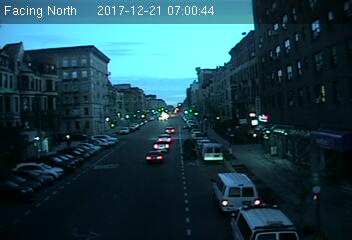car: (153, 138, 170, 152), (144, 150, 163, 162), (164, 127, 176, 135)
truck: (226, 200, 302, 240), (210, 172, 261, 212), (203, 141, 222, 163)
